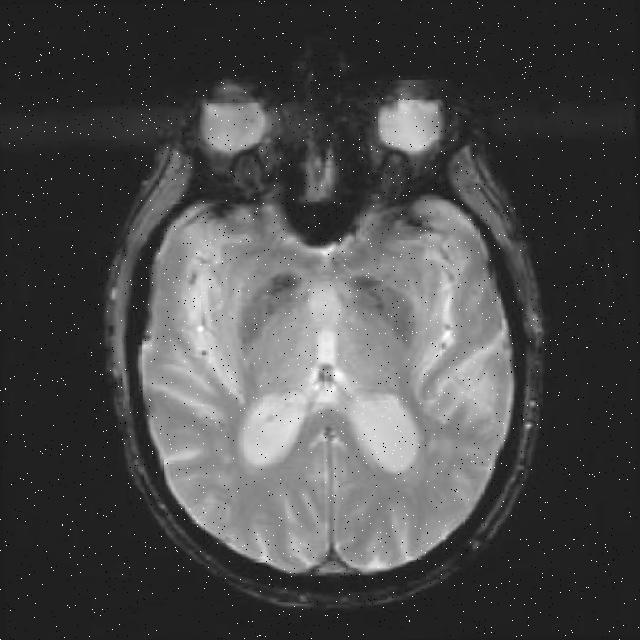MCI: (422, 282, 496, 438), (176, 234, 242, 386)
